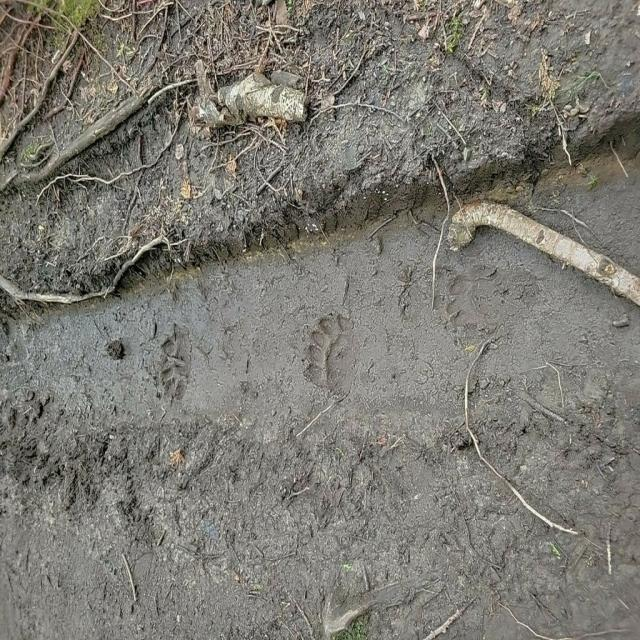bear: (446, 264, 530, 331), (310, 311, 359, 400)
